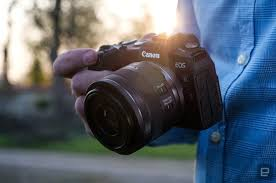camera: (84, 41, 222, 152)
